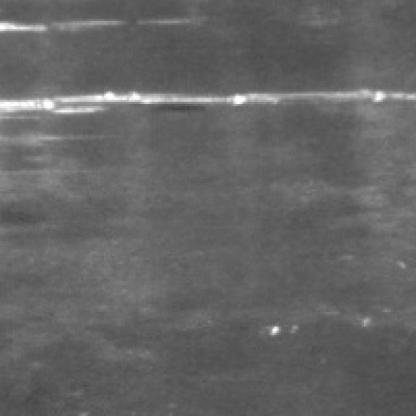scratches: (0, 88, 410, 129), (0, 17, 179, 41)
